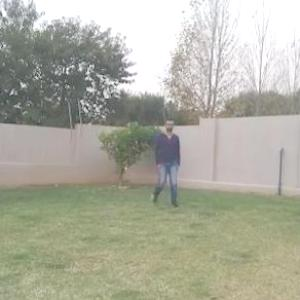follow: (157, 117, 180, 209)
